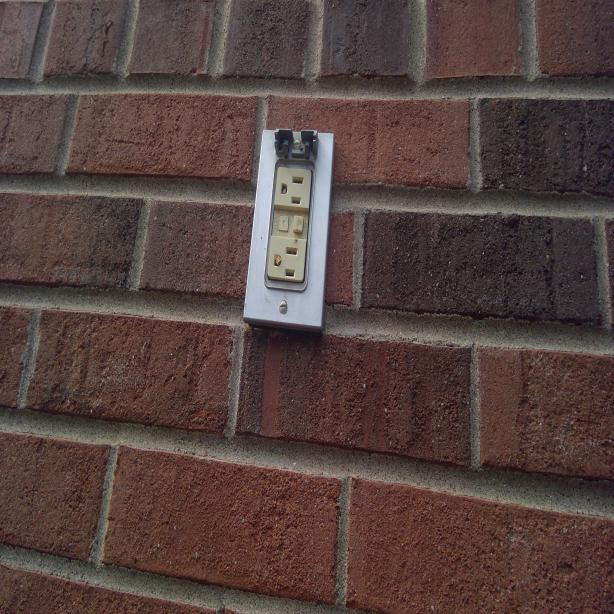typeb: (270, 236, 303, 282), (276, 164, 308, 210)
